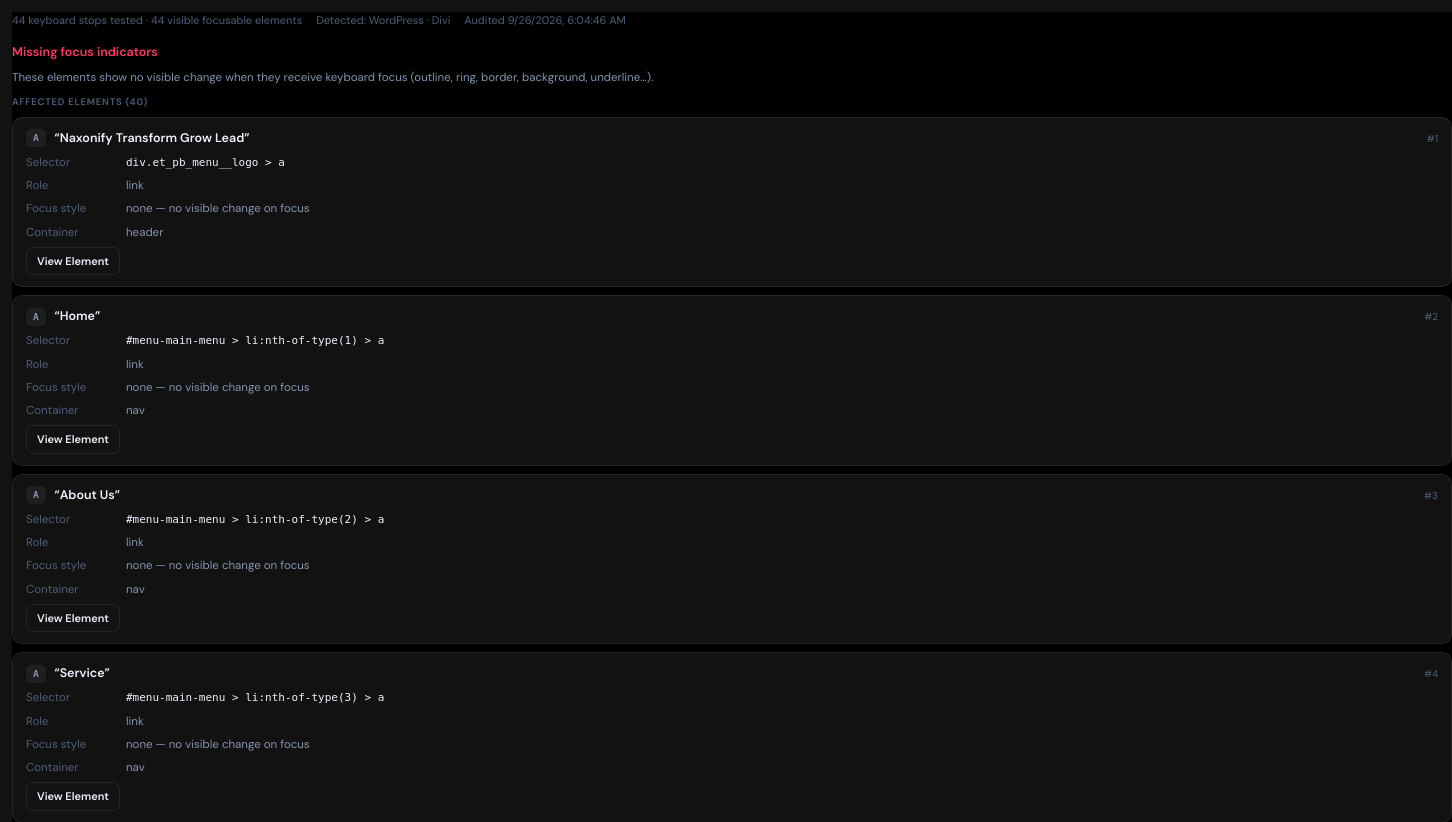
Test case: AccessibilityAuditPanel — the real Naxonify audit › View Element opens the details: DOM path, the CSS rule that removes the outline, and safe actions
The width and height of the screenshot is (1452, 822).
Click the button with test id "a11y-view-element" below "header".
click(73, 261)  # box [26,247,120,275]
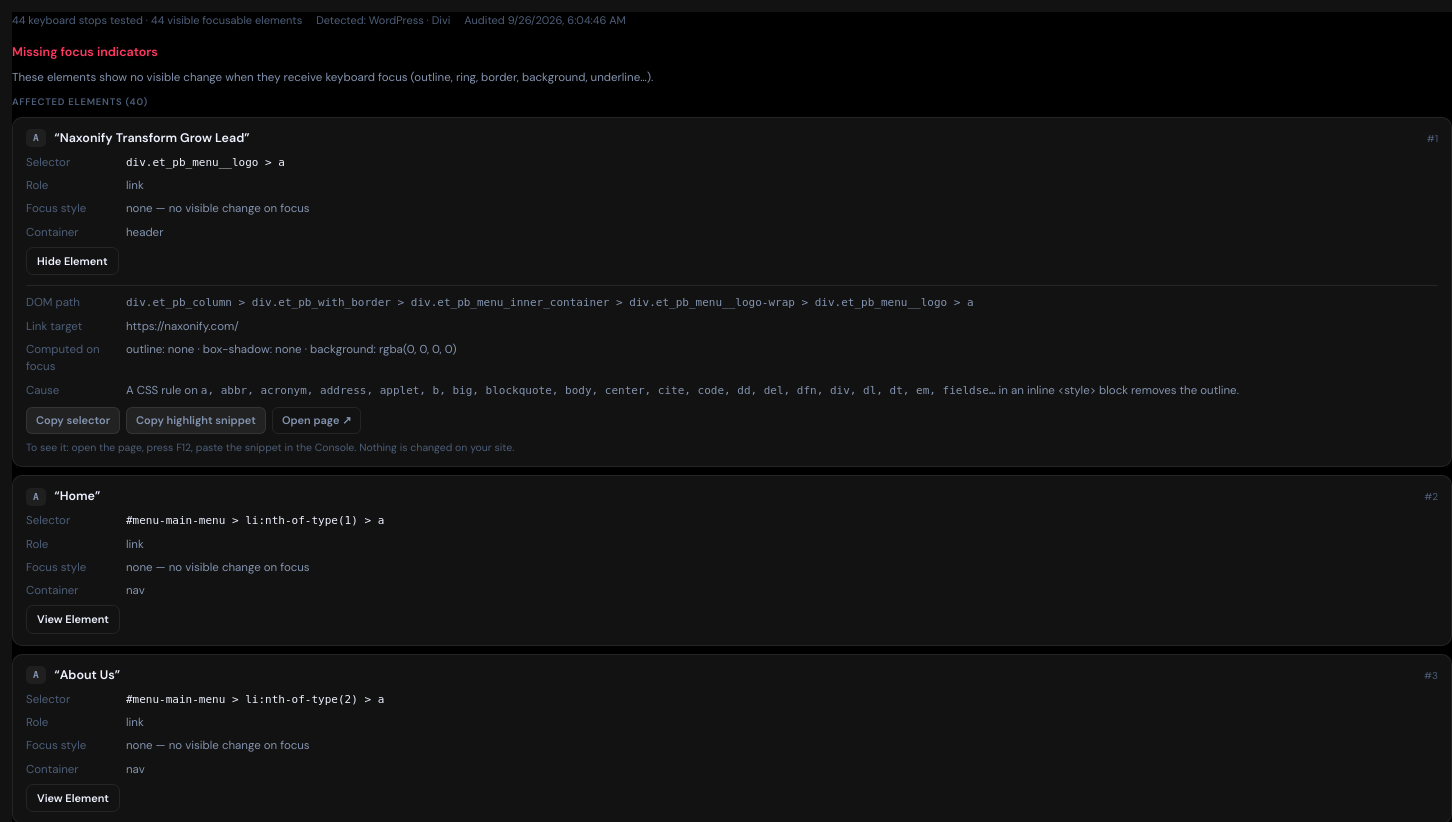
Now the element with test id "a11y-element-details" shows "DOM path", box [26,295,80,310]
Now the element with test id "a11y-suppress" shows "an inline <style> block", box [1011,382,1128,398]
Now the button with test id "a11y-copy-selector" is shown, box [26,407,120,434]
Click the button with test id "a11y-view-element" showing "Hide Element".
click(72, 261)  # box [26,247,119,275]
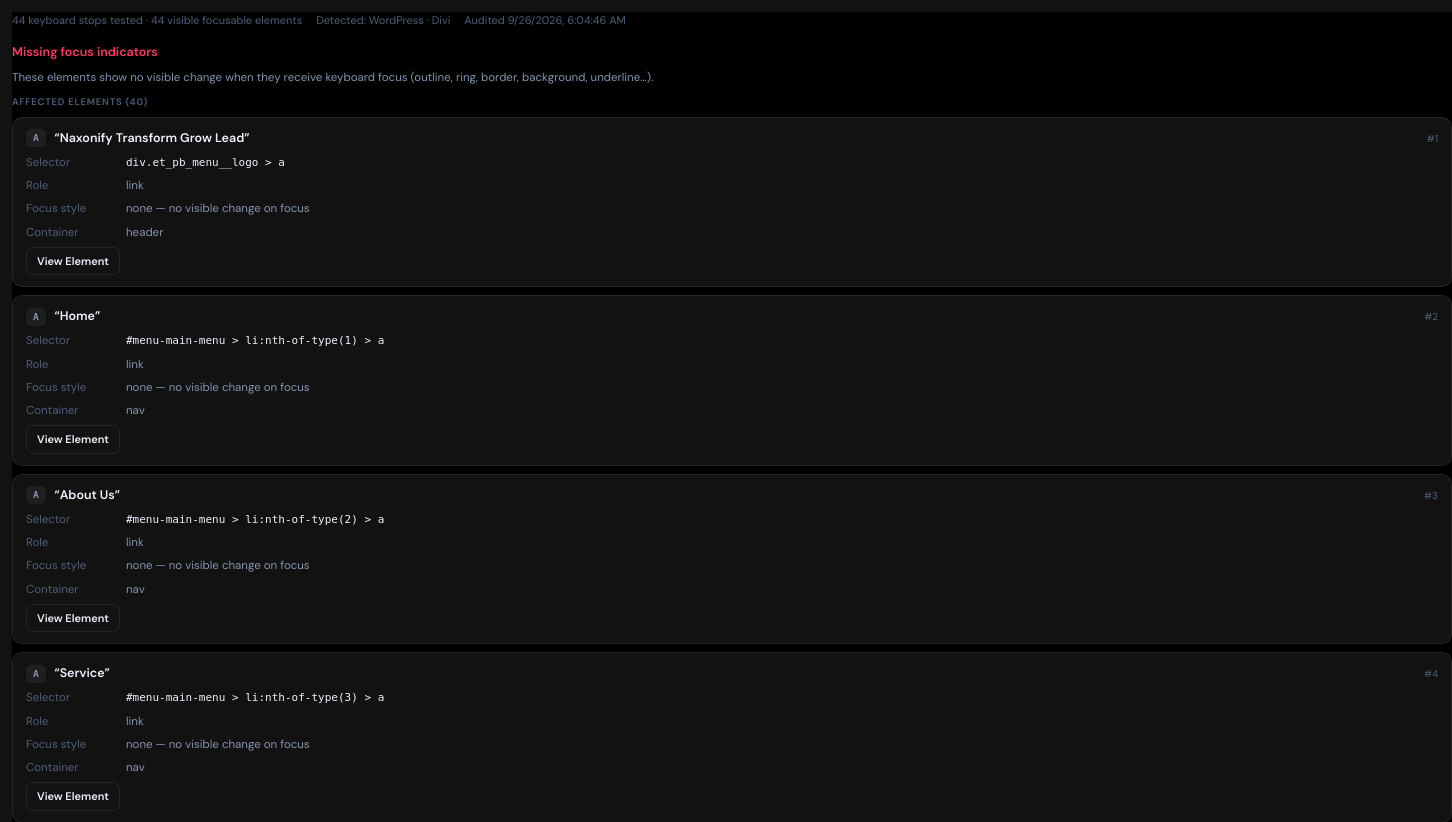
Now the element with test id "a11y-element-details" is gone
